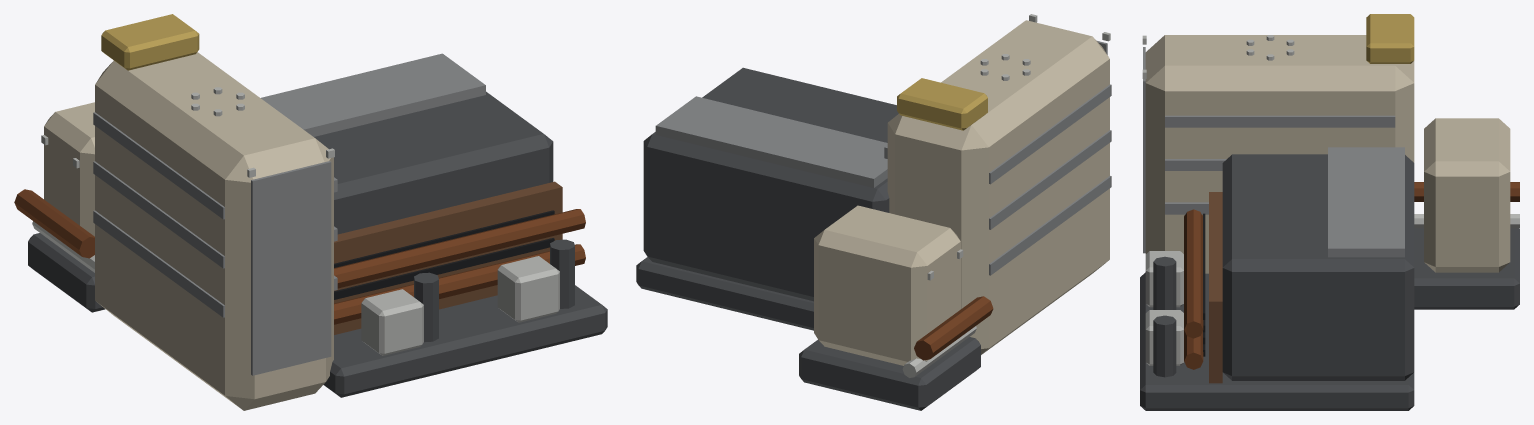
The model's file is cargo-bay-corner-sw.glb.
3 renders of one model, left to right at view 1: azimuth 30°, elevation 25°; view 2: azimuth 150°, elevation 25°; view 3: azimuth 270°, elevation 25°, orthographic. The views are drawn at different scales.
Parts seen in each view (by area): view 1: body; view 2: body; view 3: body.
Part boxes in pixels (box(x1,y1,x2,y2)): body: box(14, 14, 607, 410); body: box(636, 14, 1111, 410); body: box(1140, 14, 1519, 410).
Size of the model in its own units: 2.03 by 1.42 by 1.98.
